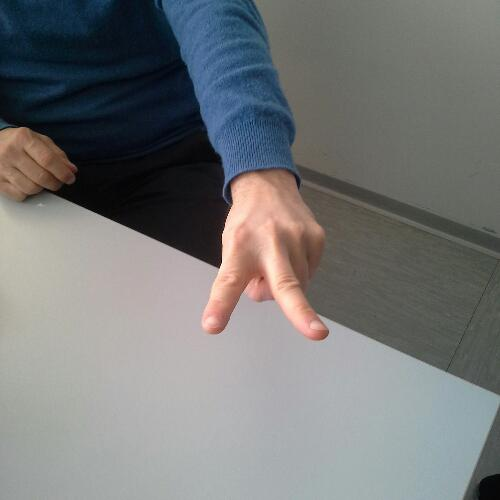scissors: (198, 166, 338, 347)
